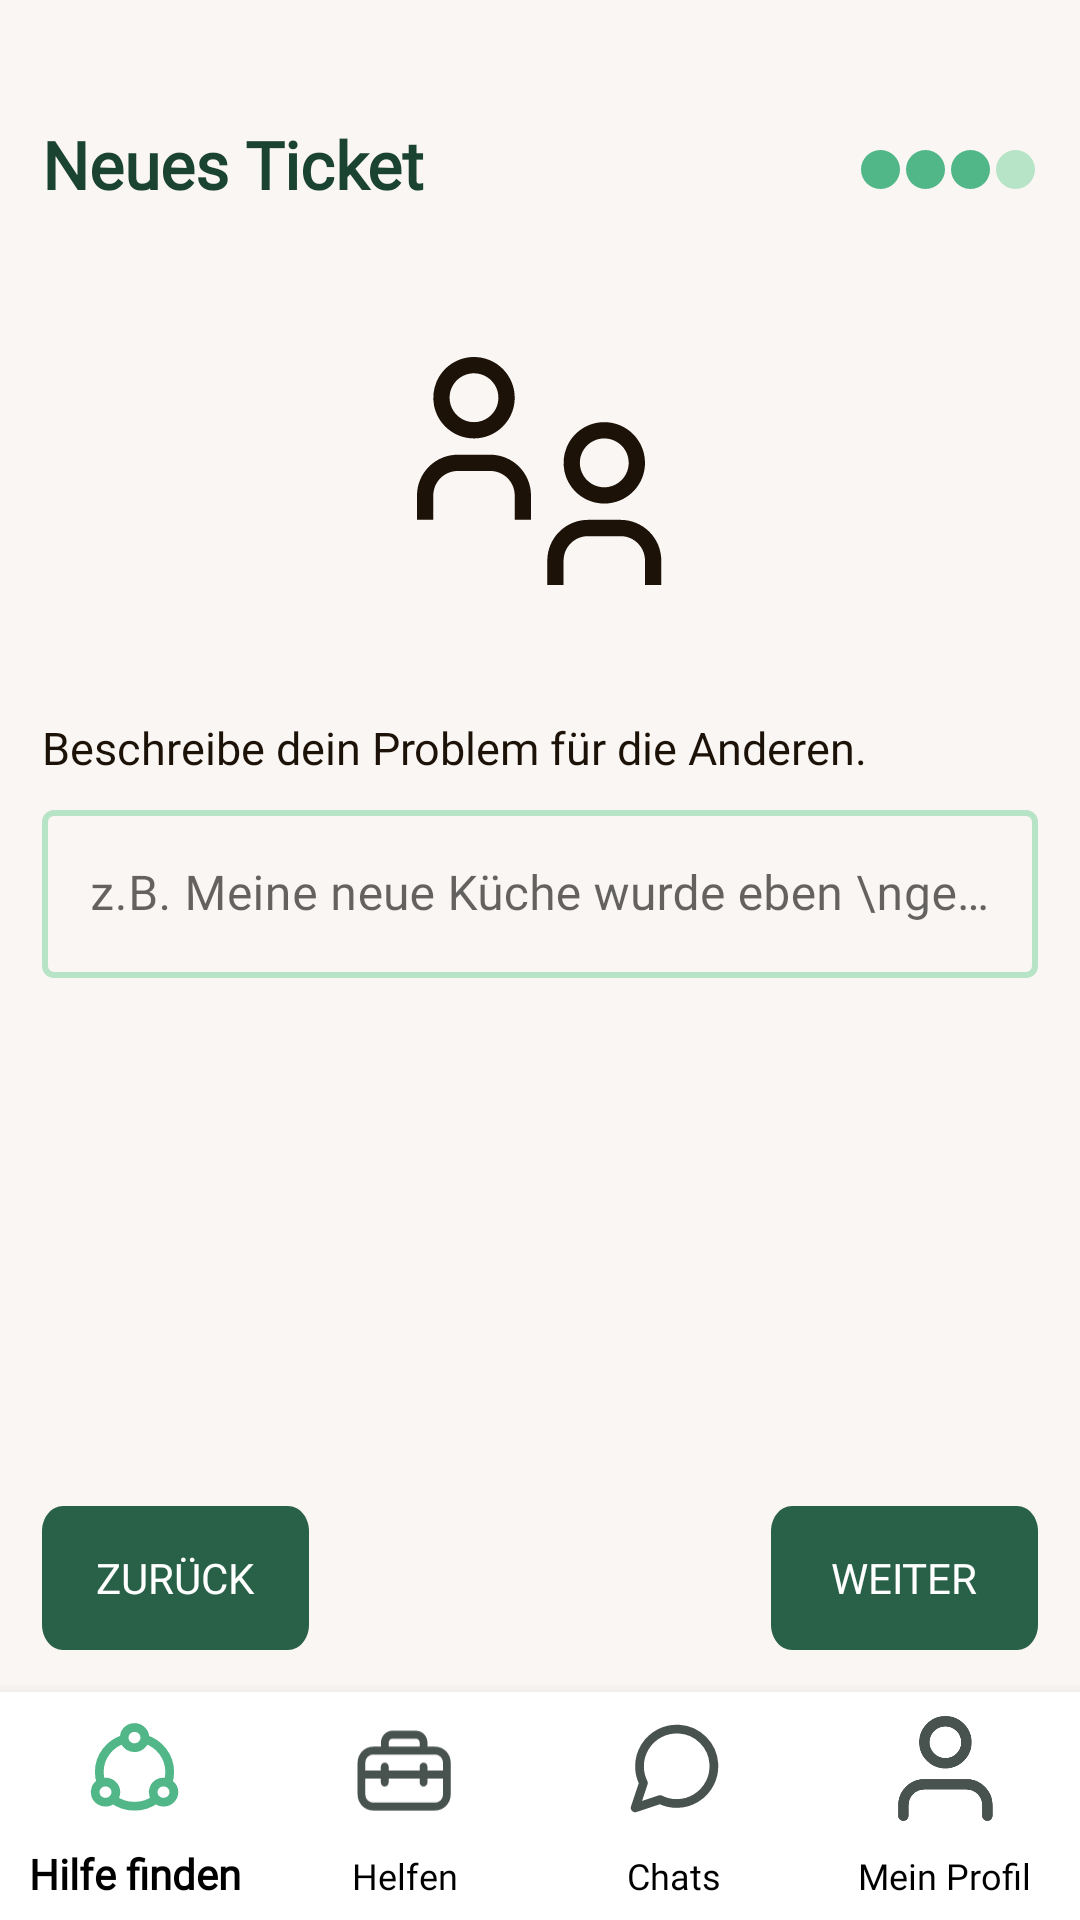

Where to tap for icons on this 1080w x 1920h app screen, as point (x, y):
ticket progress: point (948, 169)
